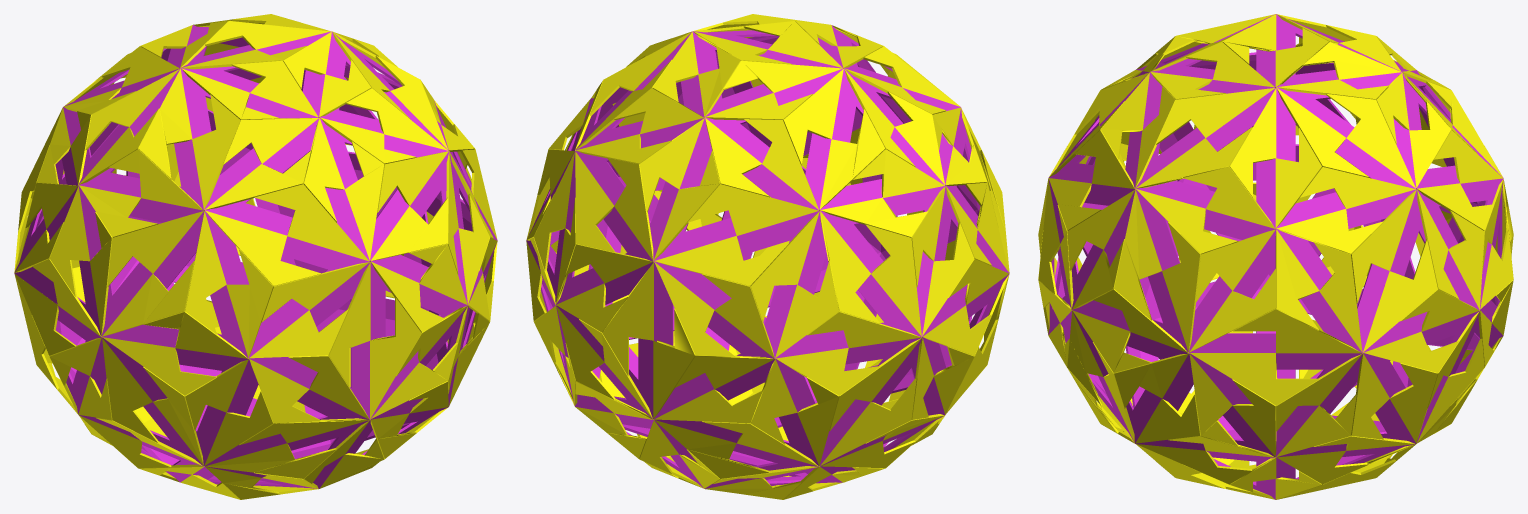
File: SmallHexagonalHexecontahedronSA.glb
The picture shows the model from 3 angles, left to right: view 1: azimuth 30°, elevation 25°; view 2: azimuth 150°, elevation 25°; view 3: azimuth 270°, elevation 25°; orthographic projection.
Visible parts, largest first — view 1: root; view 2: root; view 3: root.
Boxes of the visible parts, <box> form: root: <box>14,14,497,499</box>; root: <box>526,14,1009,499</box>; root: <box>1038,14,1513,499</box>.
Bounding box in the file's own units: 9.6 × 9.6 × 9.6.
